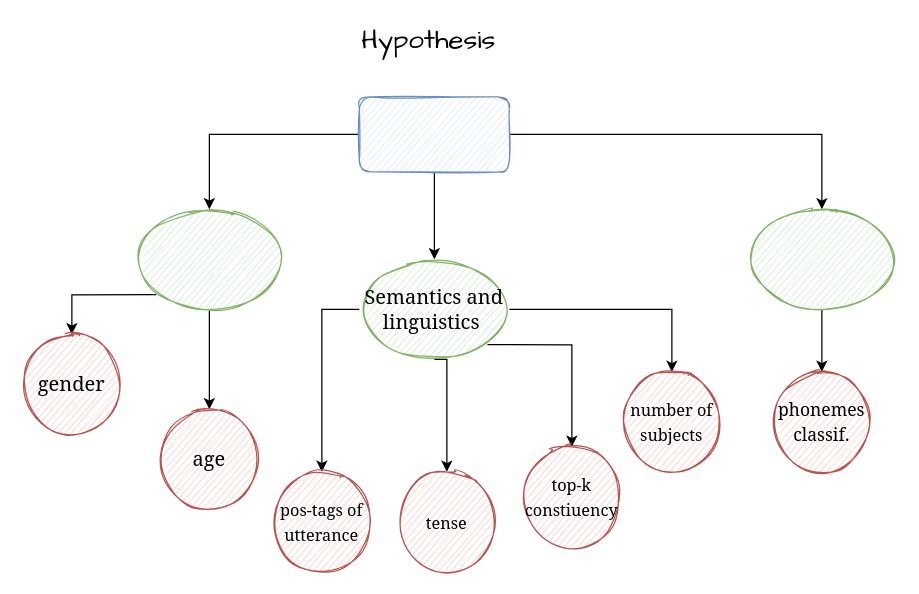
Some shapes in this 919 by 594 pixel diagram are drawn without their labels. The box of each missing label's shape, as (x1, y1, x2, y2) in pixels:
ASR model knowledege: (358, 96, 509, 172)
Phonemes (Audio info): (746, 208, 897, 309)
Speaker: (133, 208, 284, 309)
